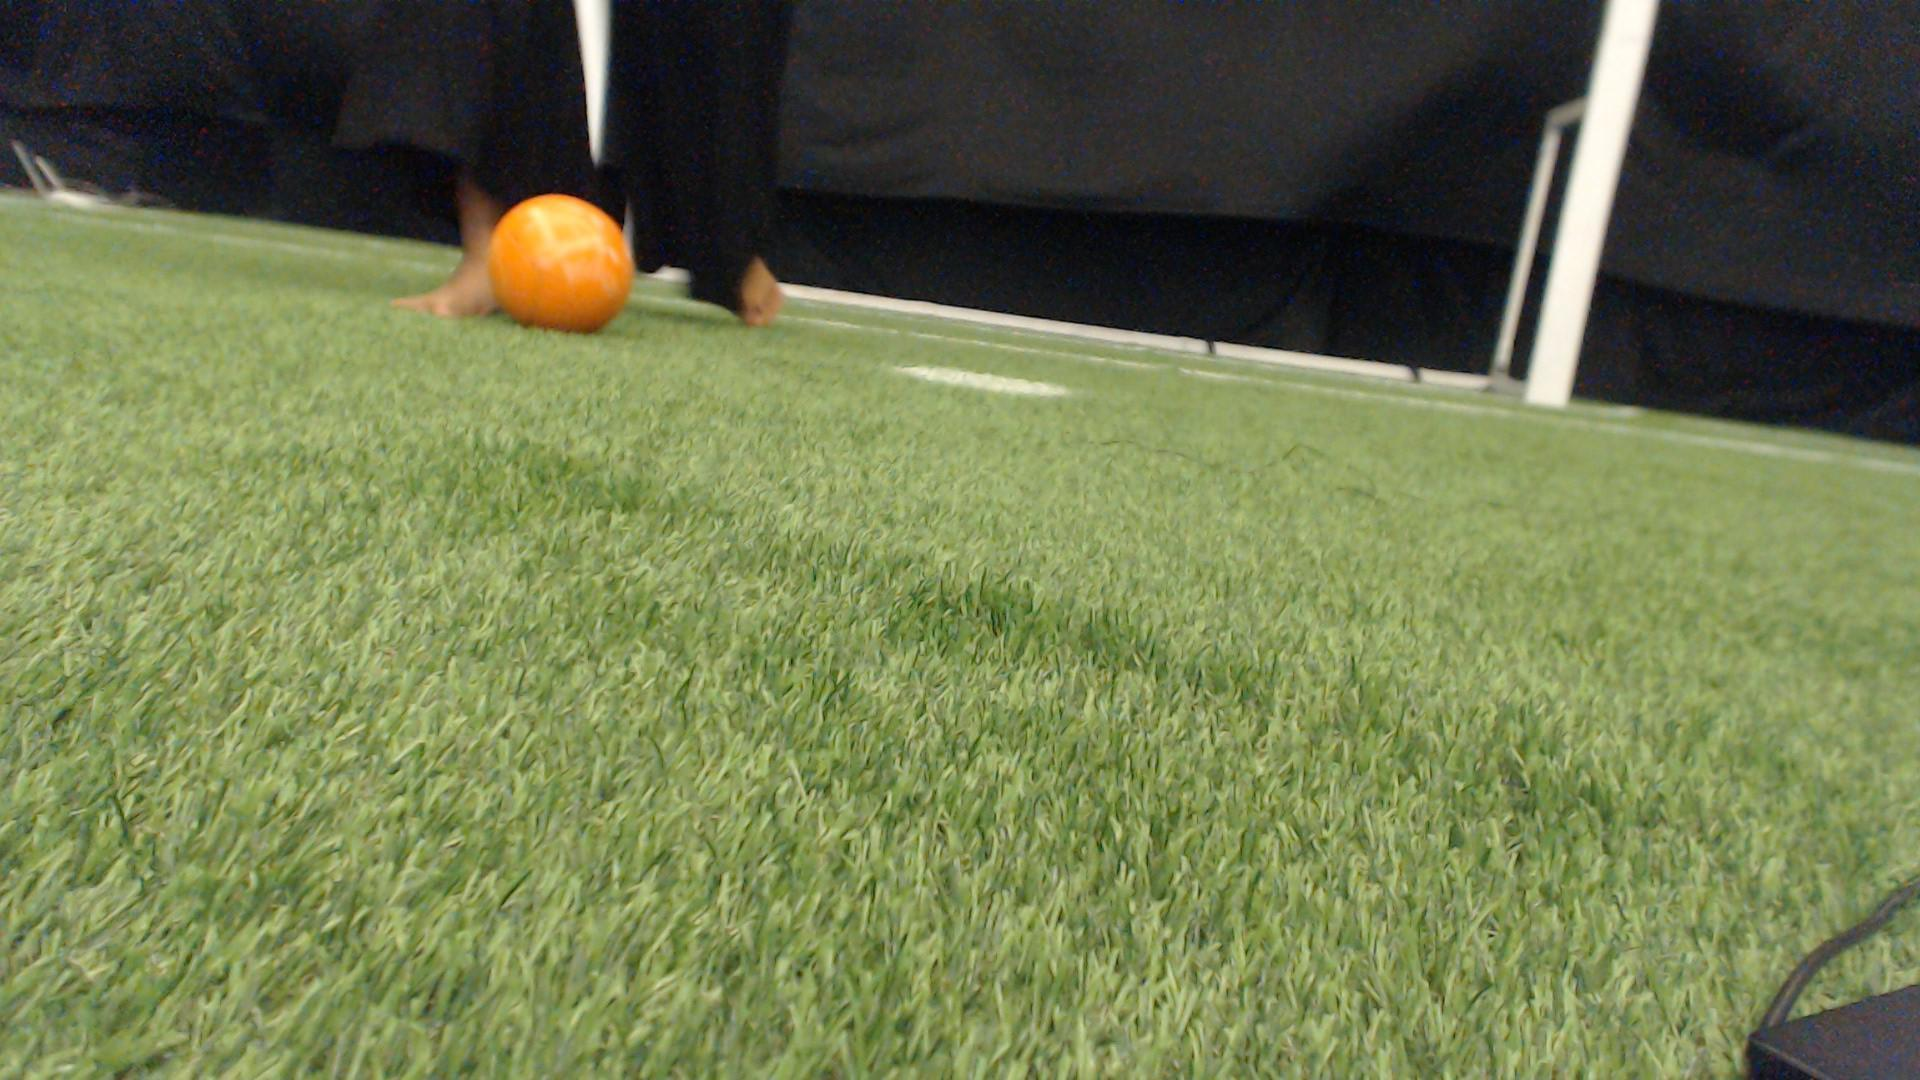bola: (481, 175, 644, 360)
